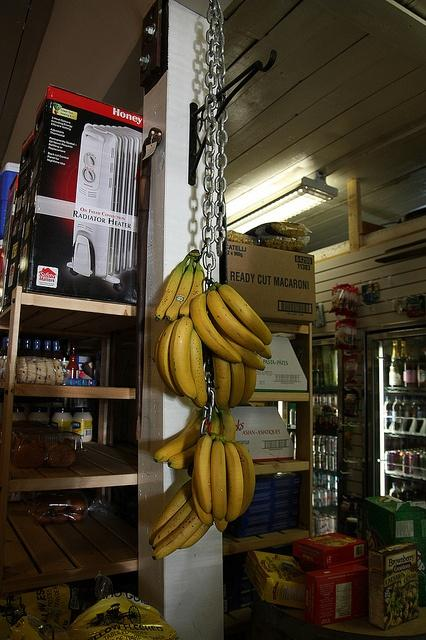Rak: (0, 285, 141, 638)
